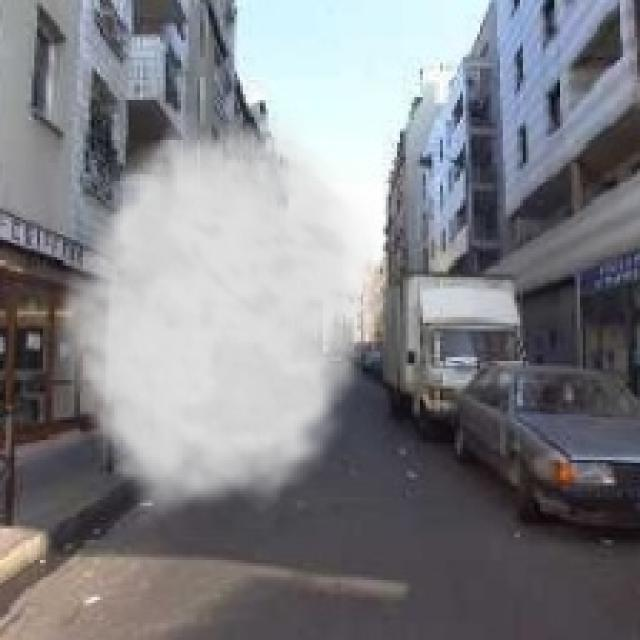smoke: (49, 109, 397, 528)
